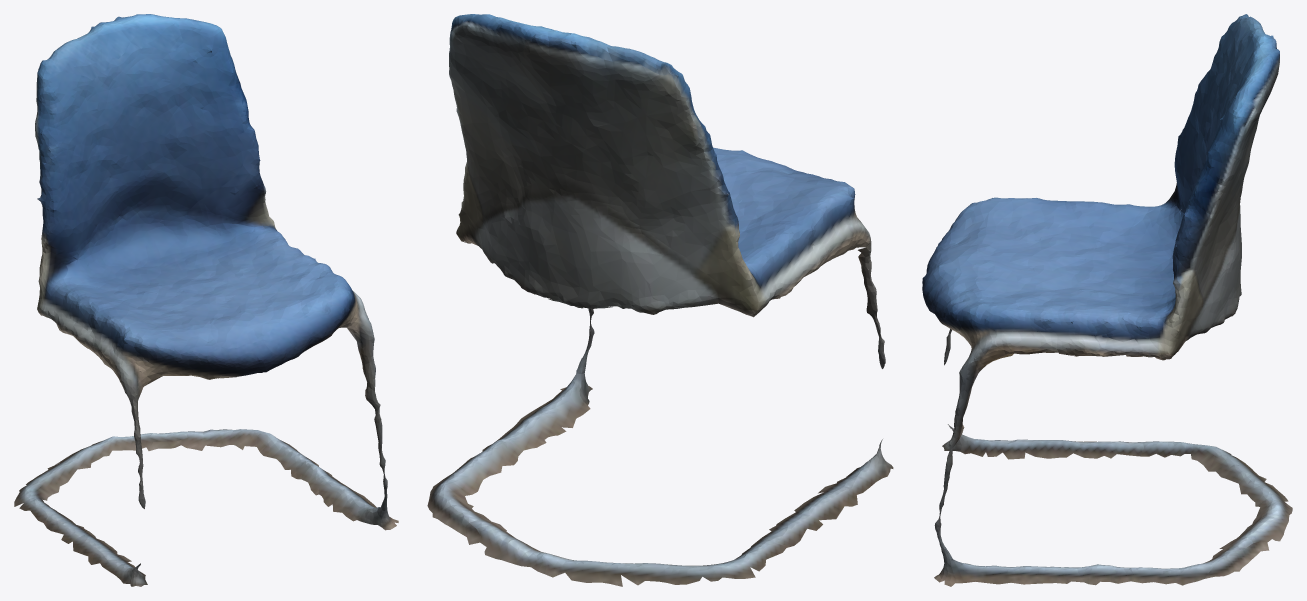
The model's file is photographchair_最新版.glb.
The picture shows the model from 3 angles, left to right: view 1: azimuth 30°, elevation 25°; view 2: azimuth 150°, elevation 25°; view 3: azimuth 270°, elevation 25°; orthographic projection. The views are drawn at different scales.
Visible parts, largest first — view 1: mesh; view 2: mesh; view 3: mesh.
Part boxes in pixels (x1,y1,x2,y2): mesh: [14, 14, 398, 586]; mesh: [427, 14, 893, 586]; mesh: [922, 14, 1292, 586].
Size of the model in its own units: 0.5267 by 0.794 by 0.5629.
1 material, 1 textured.
